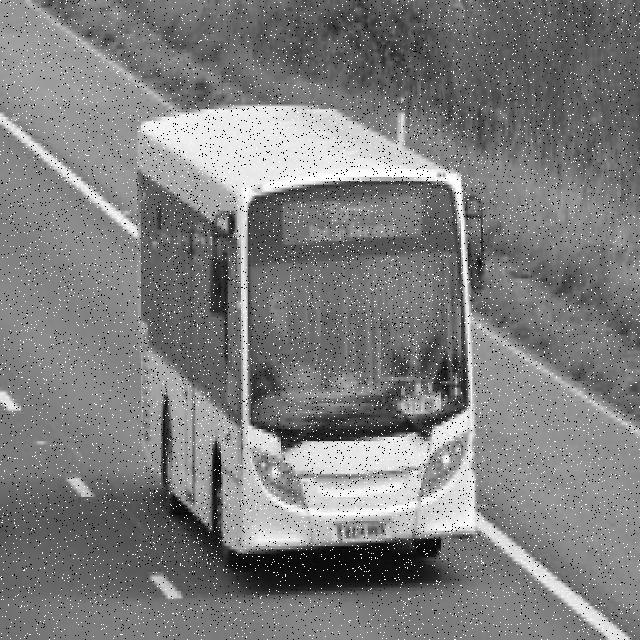Bus: (137, 106, 484, 572)
